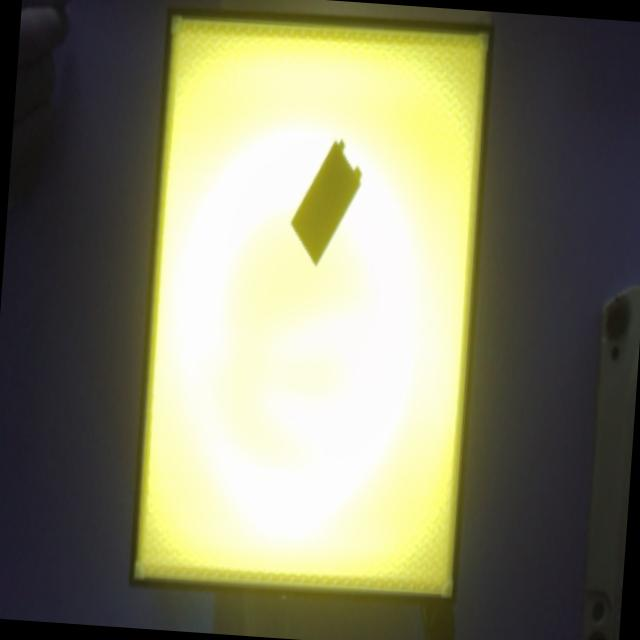bateria: (290, 139, 362, 267)
mesa: (129, 6, 494, 607)
